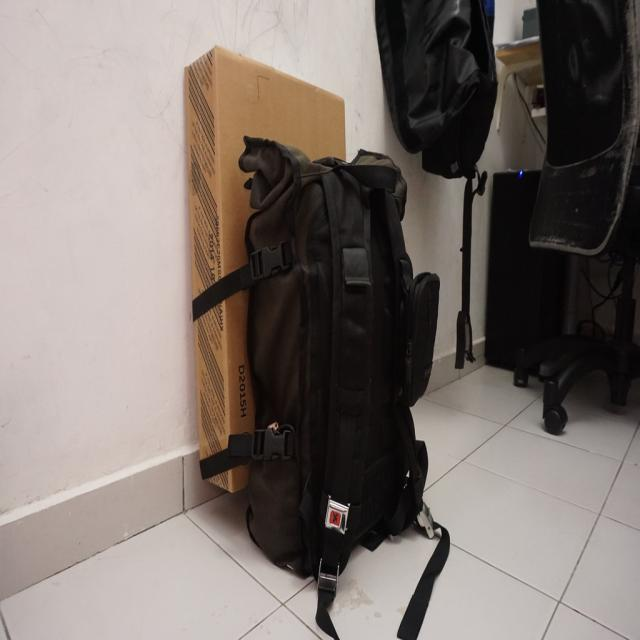backpack: (188, 142, 436, 566)
